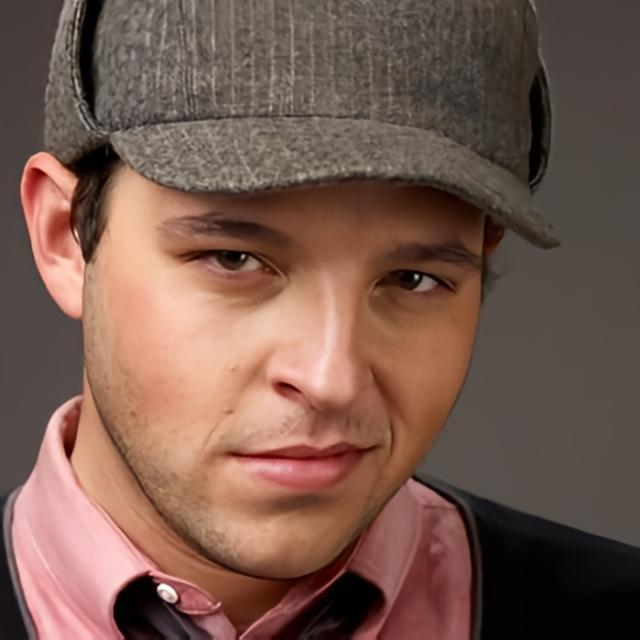content: (83, 123, 485, 578)
